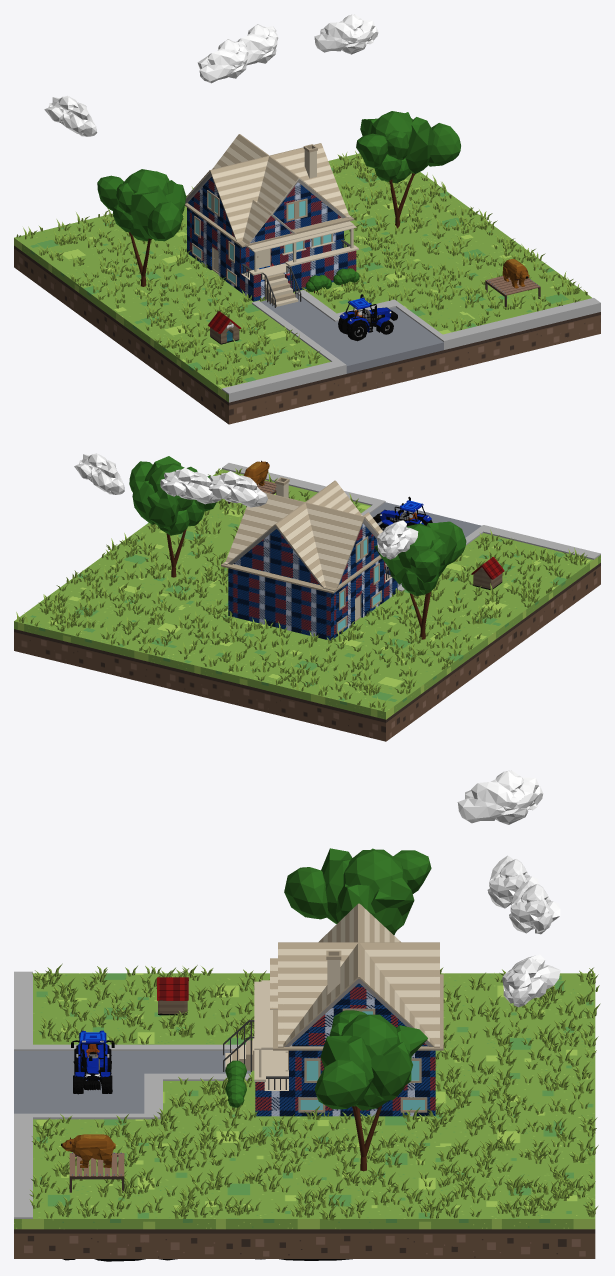
3 renders of one model, top to bottom at view 1: azimuth 30°, elevation 25°; view 2: azimuth 150°, elevation 25°; view 3: azimuth 270°, elevation 25°, orthographic. The views are drawn at different scales.
Visible parts, largest first — view 1: Cube.006, Cube.171, Circle.012_Grass_0.192, Cube.007, tree, tree.001, VEHICLES_TRACTOR, OBJRANDOM_DOGHOUSE, Cube.009, ANIMAL_OSO; view 2: Cube.006, Cube.171, Circle.012_Grass_0.192, Cube.007, tree.001, tree, VEHICLES_TRACTOR, OBJRANDOM_DOGHOUSE, ANIMAL_OSO; view 3: Cube.006, Circle.012_Grass_0.192, Cube.171, tree, Cube.007, tree.001, VEHICLES_TRACTOR, Cube.009, ANIMAL_OSO, OBJRANDOM_DOGHOUSE.
Boxes of the visible parts, box(x1,y1,x2,y2) form: Cube.006: box(14, 153, 600, 424); Cube.171: box(185, 134, 358, 307); Circle.012_Grass_0.192: box(16, 151, 587, 386); Cube.007: box(44, 14, 378, 136); tree: box(356, 111, 460, 228); tree.001: box(97, 169, 186, 286); VEHICLES_TRACTOR: box(338, 294, 397, 341); OBJRANDOM_DOGHOUSE: box(208, 311, 241, 344); Cube.009: box(485, 276, 540, 306); ANIMAL_OSO: box(502, 259, 529, 288); Cube.006: box(14, 463, 600, 741); Cube.171: box(221, 477, 397, 640); Circle.012_Grass_0.192: box(16, 468, 587, 711); Cube.007: box(74, 453, 418, 559); tree.001: box(374, 521, 466, 639); tree: box(129, 456, 216, 577); VEHICLES_TRACTOR: box(373, 496, 432, 530); OBJRANDOM_DOGHOUSE: box(471, 557, 504, 589); ANIMAL_OSO: box(243, 460, 269, 485); Cube.006: box(14, 971, 595, 1258); Circle.012_Grass_0.192: box(29, 963, 600, 1220); Cube.171: box(223, 903, 443, 1116); tree: box(314, 1010, 427, 1171); Cube.007: box(457, 770, 560, 1007); tree.001: box(284, 848, 431, 935); VEHICLES_TRACTOR: box(71, 1030, 114, 1094); Cube.009: box(69, 1152, 124, 1192); ANIMAL_OSO: box(61, 1134, 115, 1167); OBJRANDOM_DOGHOUSE: box(156, 977, 188, 1015).
Bounding box in the file's own units: 4071 × 2149 × 4040.
Materials: 34 (4 with a texture image).
